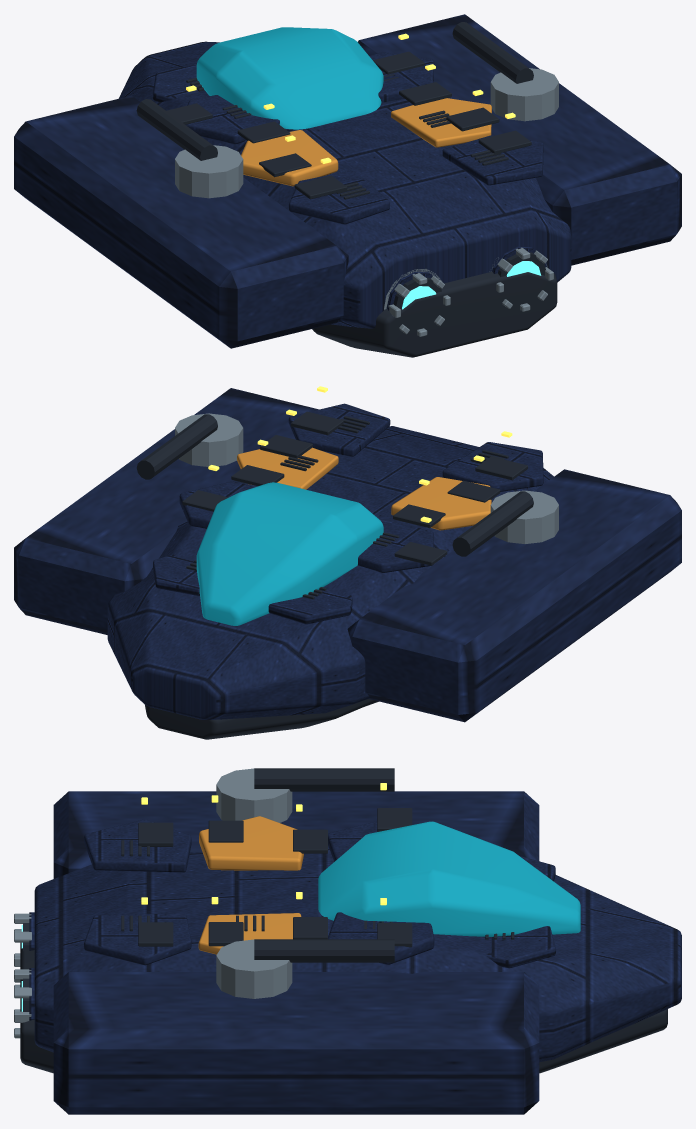
Rendered from warden.glb.
3 renders of one model, top to bottom at view 1: azimuth 30°, elevation 25°; view 2: azimuth 150°, elevation 25°; view 3: azimuth 270°, elevation 25°, orthographic. The views are drawn at different scales.
Visible parts, largest first — view 1: Gôndola do motor.059 · exportação, Canhão.005 · exportação, Cabine panorâmica.029 · exportação, Torreta.005 · exportação, Colar da turbina.178 · exportação, Núcleo propulsor.059 · exportação; view 2: Gôndola do motor.059 · exportação, Cabine panorâmica.029 · exportação, Canhão.005 · exportação, Colar da turbina.178 · exportação, Torreta.005 · exportação; view 3: Gôndola do motor.059 · exportação, Cabine panorâmica.029 · exportação, Canhão.005 · exportação, Torreta.005 · exportação, Colar da turbina.178 · exportação.
Boxes of the visible parts, <box> form: Gôndola do motor.059 · exportação: <box>14,14,681,348</box>; Canhão.005 · exportação: <box>136,22,557,357</box>; Cabine panorâmica.029 · exportação: <box>196,27,383,129</box>; Torreta.005 · exportação: <box>175,68,558,336</box>; Colar da turbina.178 · exportação: <box>241,98,491,186</box>; Núcleo propulsor.059 · exportação: <box>402,261,541,309</box>; Gôndola do motor.059 · exportação: <box>14,388,681,722</box>; Cabine panorâmica.029 · exportação: <box>196,482,383,625</box>; Canhão.005 · exportação: <box>136,411,533,739</box>; Colar da turbina.178 · exportação: <box>237,447,491,530</box>; Torreta.005 · exportação: <box>175,413,558,543</box>; Gôndola do motor.059 · exportação: <box>29,791,681,1114</box>; Cabine panorâmica.029 · exportação: <box>318,821,580,936</box>; Canhão.005 · exportação: <box>20,768,667,1073</box>; Torreta.005 · exportação: <box>14,768,292,1038</box>; Colar da turbina.178 · exportação: <box>198,816,303,954</box>.
Size of the model in its own units: 42.2 by 16.65 by 47.54.
Materials: 7 (1 with a texture image).
